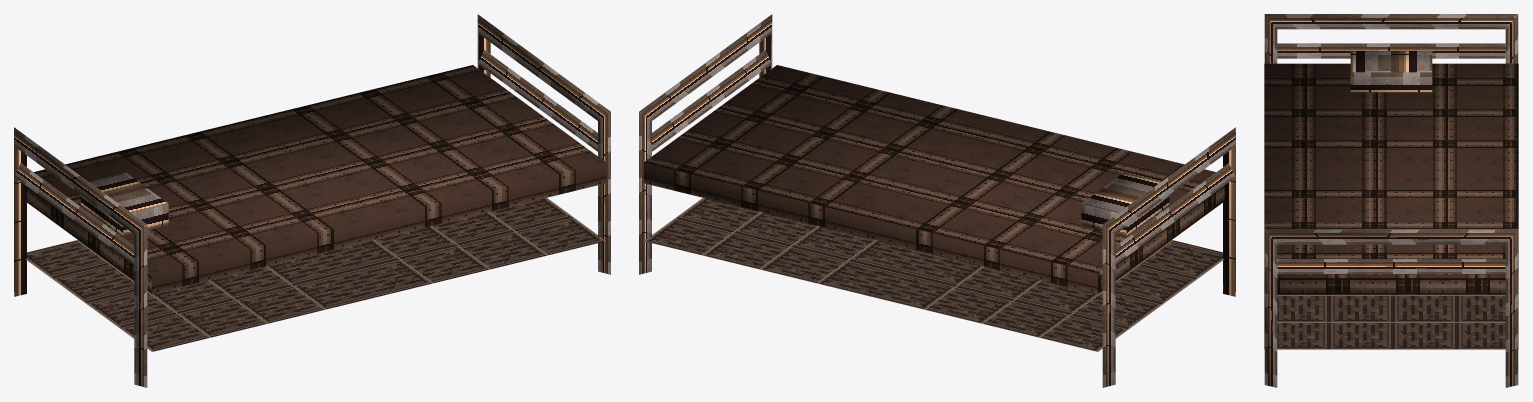
The model's file is 3293IMIG06_07.gltf.
The picture shows the model from 3 angles, left to right: view 1: azimuth 30°, elevation 25°; view 2: azimuth 150°, elevation 25°; view 3: azimuth 270°, elevation 25°; orthographic projection. The views are drawn at different scales.
Parts seen in each view (by area): view 1: 3293IMIG06_07; view 2: 3293IMIG06_07; view 3: 3293IMIG06_07.
Boxes of the visible parts, box(x1,y1,x2,y2) form: 3293IMIG06_07: box(14, 14, 610, 387); 3293IMIG06_07: box(639, 14, 1235, 387); 3293IMIG06_07: box(1264, 14, 1518, 387).
Bounding box in the file's own units: 1.94 × 0.6345 × 0.939.
3 materials, 3 textured.
